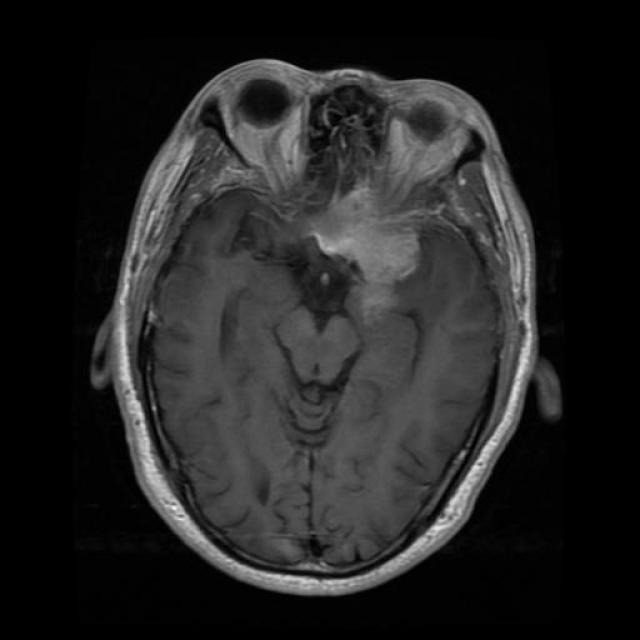meningioma: (352, 224, 419, 285)
